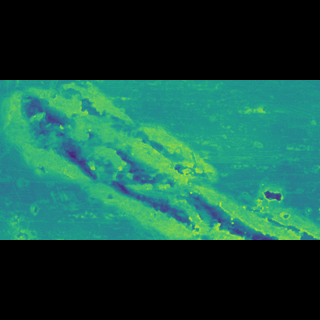Loch: (4, 119, 318, 199)
